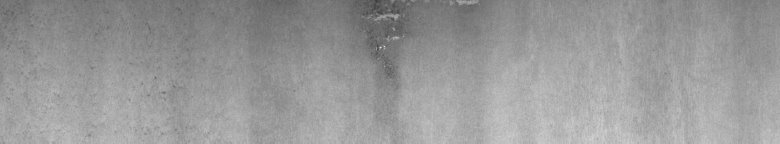hc: (361, 4, 408, 80)
